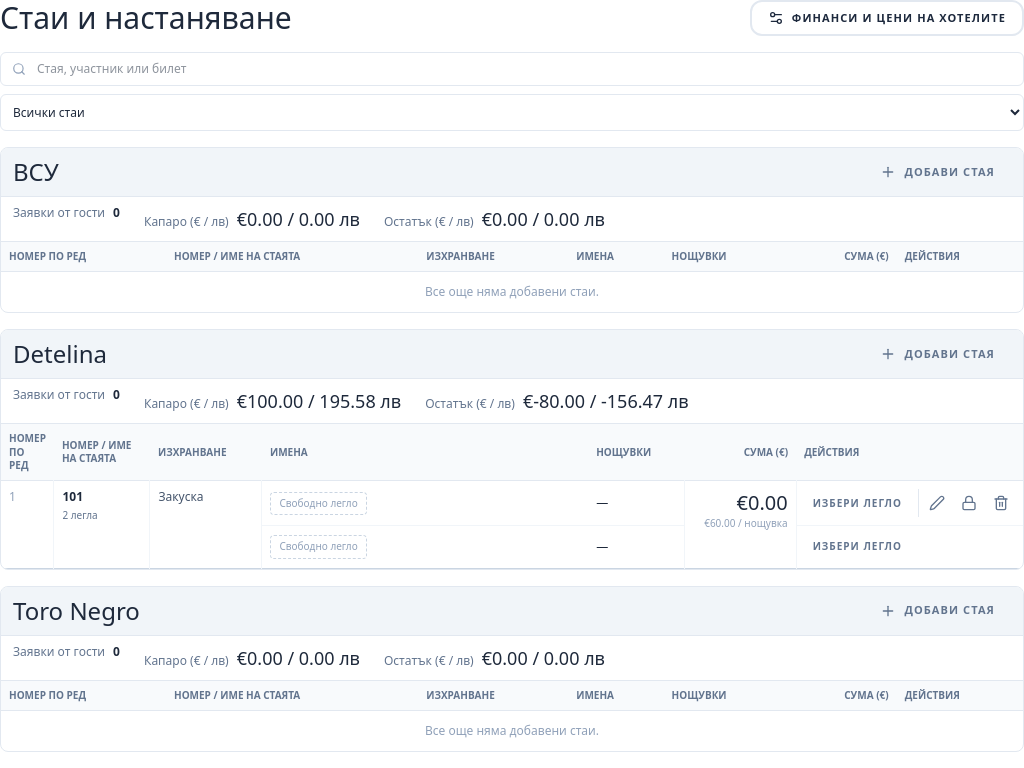
it: hotel allocation spreadsheets › renders Bulgarian spreadsheet labels and financial fields
Expected: the element "ВСУ" is shown, [0,147,1023,313]
Click the button "Финанси и цени на хотелите": [887, 18] box [750,0,1023,36]
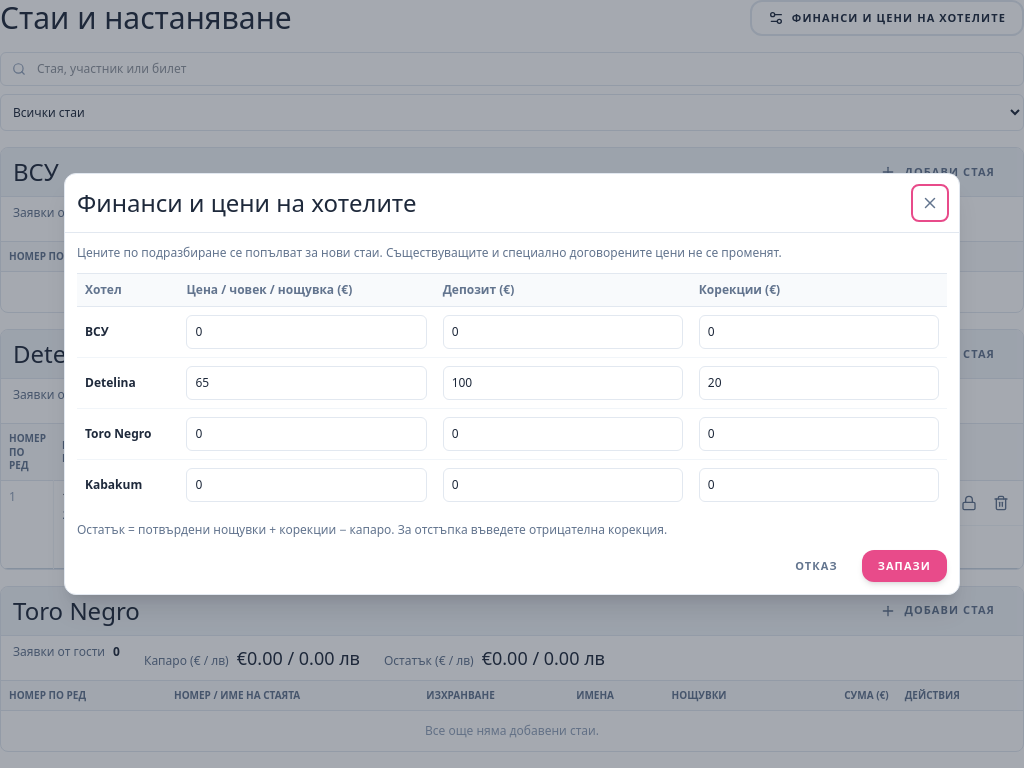
Result: the number field named "Detelina · Корекции (€)" is shown at [699,366,939,400]
